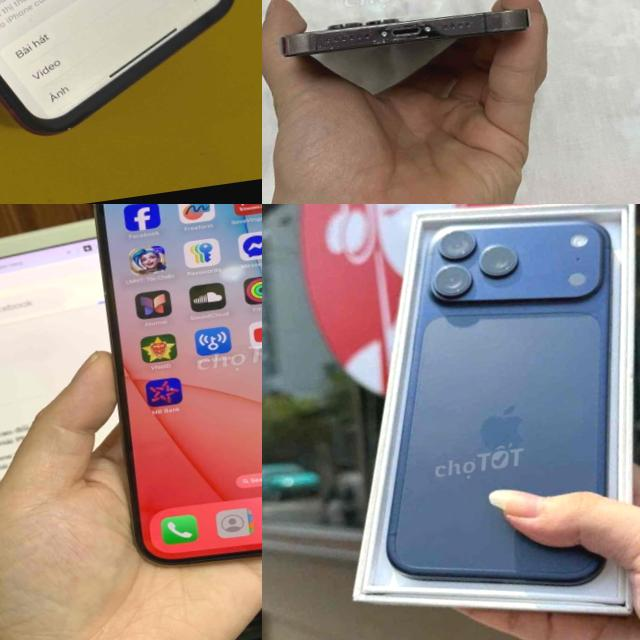scratch: (464, 5, 530, 40), (368, 25, 438, 50), (299, 26, 354, 54)
